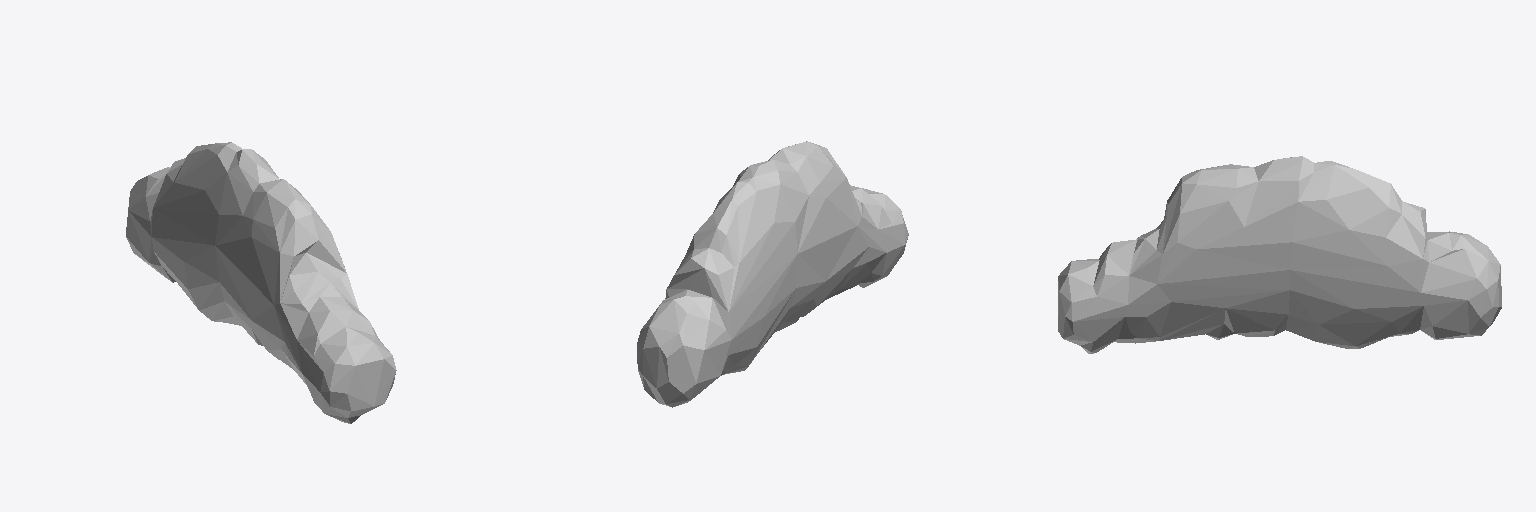
The model's file is cloud.obj.
3 renders of one model, left to right at view 1: azimuth 30°, elevation 25°; view 2: azimuth 150°, elevation 25°; view 3: azimuth 270°, elevation 25°, orthographic.
Parts seen in each view (by area): view 1: polySurface1 Body1 group; view 2: polySurface1 Body1 group; view 3: polySurface1 Body1 group.
Boxes of the visible parts, box(x1,y1,x2,y2) form: polySurface1 Body1 group: box(126, 142, 396, 423); polySurface1 Body1 group: box(637, 141, 908, 407); polySurface1 Body1 group: box(1058, 156, 1501, 353).
Bounding box in the file's own units: 0.1082 × 0.2794 × 0.5697.